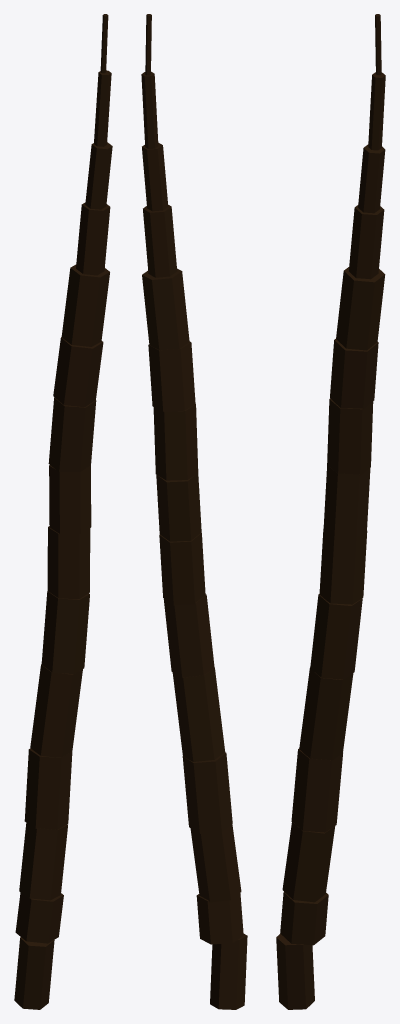
Rendered from tree_556_no_leaf.obj.
The picture shows the model from 3 angles, left to right: view 1: azimuth 30°, elevation 25°; view 2: azimuth 150°, elevation 25°; view 3: azimuth 330°, elevation 25°; orthographic projection. The views are drawn at different scales.
Parts seen in each view (by area): view 1: TrunkAndBranches; view 2: TrunkAndBranches; view 3: TrunkAndBranches.
Boxes of the visible parts, left/top/right/bottom form: TrunkAndBranches: left=14, top=14, right=112, bottom=1009; TrunkAndBranches: left=141, top=14, right=247, bottom=1009; TrunkAndBranches: left=276, top=14, right=385, bottom=1009.
Size of the model in its own units: 0.259 by 2.55 by 0.1399.
